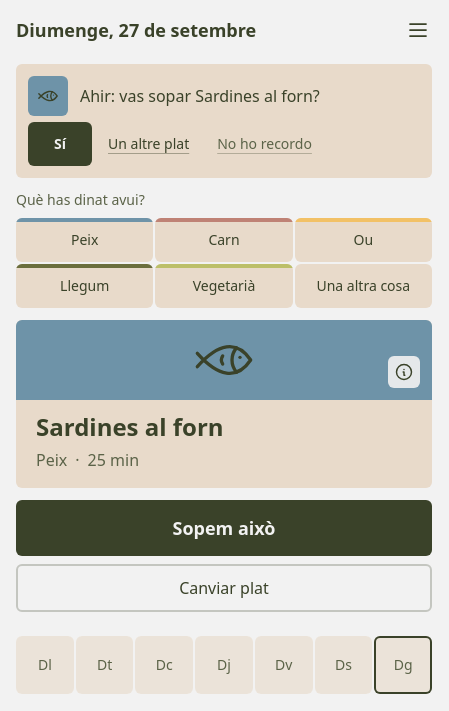
it: App › "Un altre plat" a l’avís d’ahir tria el sopar d’ahir amb el swipe
The image size is (449, 711).
Click the button "Un altre plat": point(149, 144) [96,122,201,166]
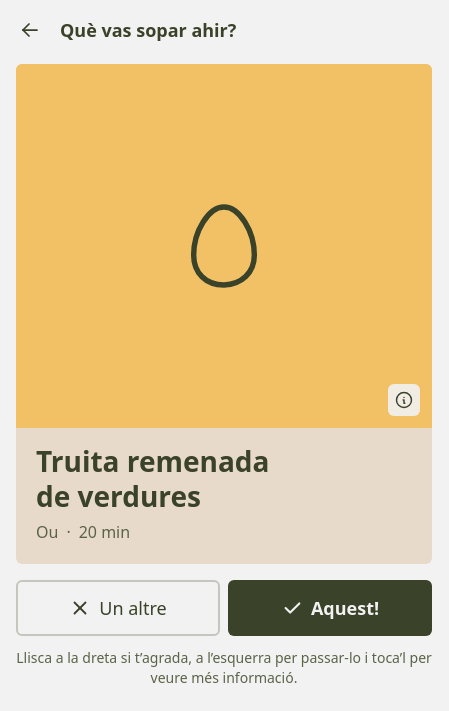
Result: the heading "Què vas sopar ahir?" is shown at [60,16,236,44]
Click the button "Aquest!": point(330, 608) [228,580,432,636]
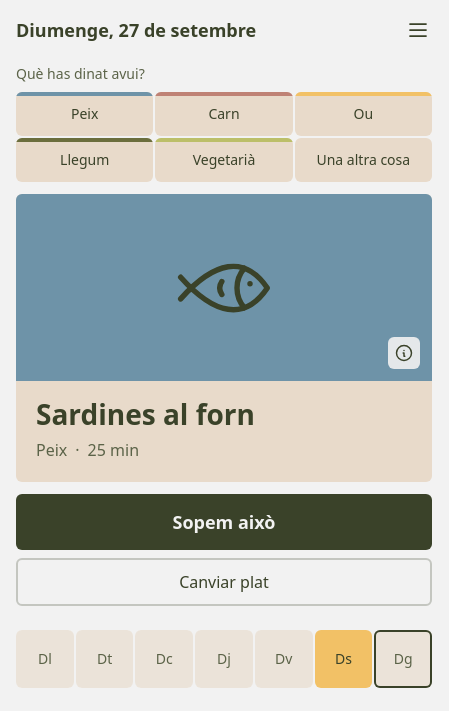
Result: the button "Sopem això" is shown at [16,494,432,550]
